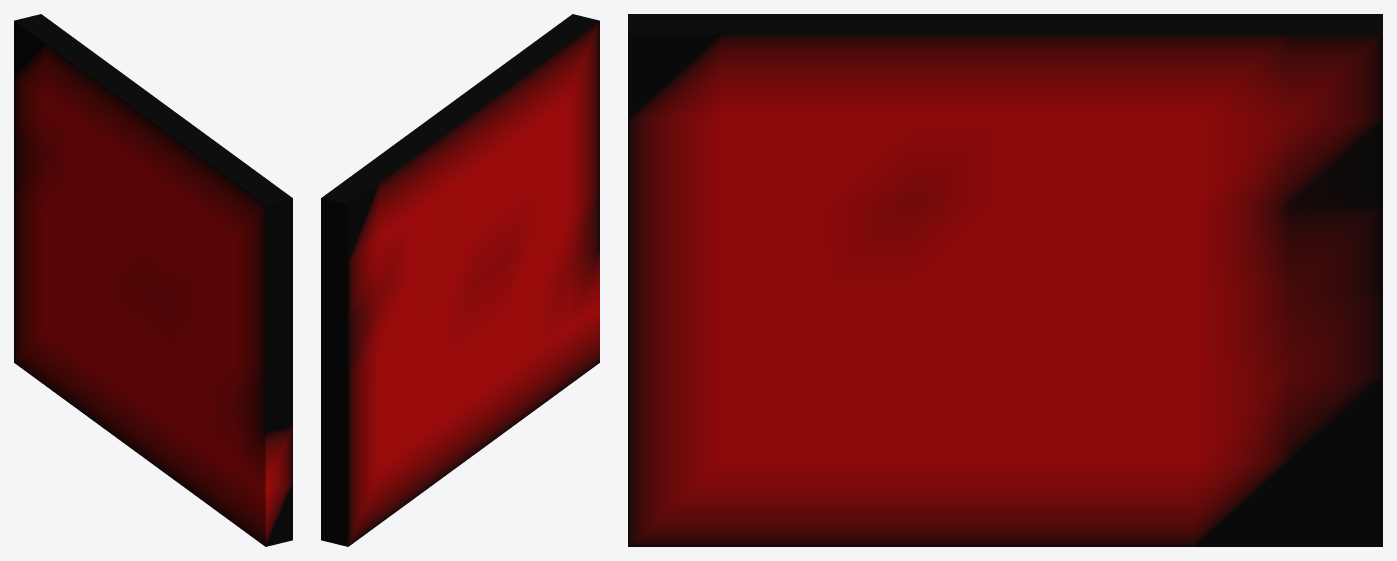
File: SM_Wall_800x600_Up.fbx
The picture shows the model from 3 angles, left to right: view 1: azimuth 30°, elevation 25°; view 2: azimuth 150°, elevation 25°; view 3: azimuth 270°, elevation 25°; orthographic projection. The views are drawn at different scales.
Visible parts, largest first — view 1: SM_Wall_800x600_Up_LOD0; view 2: SM_Wall_800x600_Up_LOD0; view 3: SM_Wall_800x600_Up_LOD0.
Part boxes in pixels (x1,y1,x2,y2): SM_Wall_800x600_Up_LOD0: (14, 14, 292, 546); SM_Wall_800x600_Up_LOD0: (321, 14, 599, 546); SM_Wall_800x600_Up_LOD0: (628, 14, 1382, 546).
Size of the model in its own units: 50 by 800 by 600.
